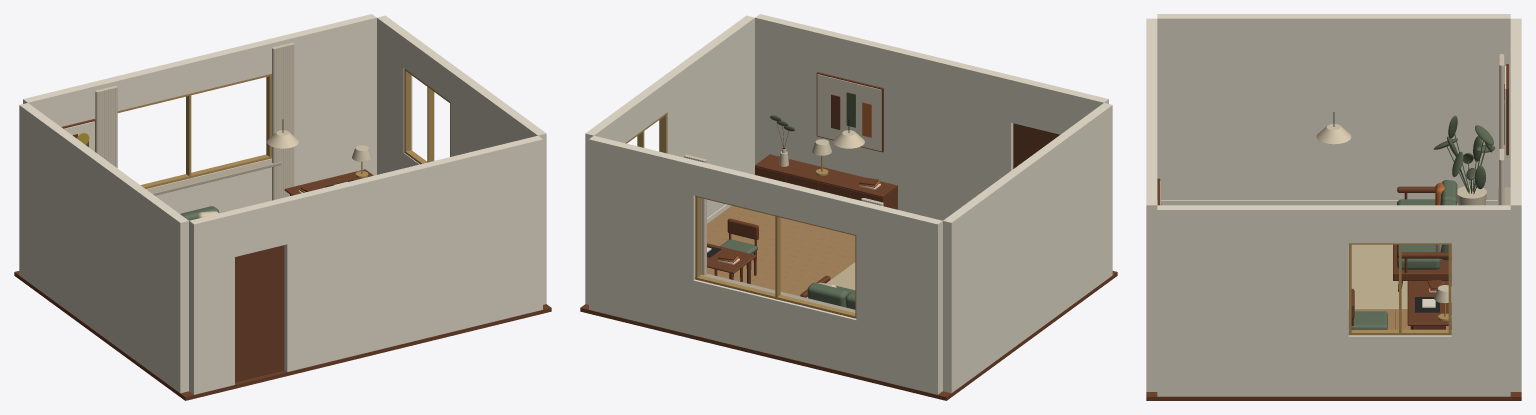
The picture shows the model from 3 angles, left to right: view 1: azimuth 30°, elevation 25°; view 2: azimuth 150°, elevation 25°; view 3: azimuth 270°, elevation 25°; orthographic projection. The views are drawn at different scales.
Parts seen in each view (by area): view 1: south plaster wall.002, west plaster wall, north plaster wall.003, south plaster wall, Flush timber door, north plaster wall.002, east plaster wall, east plaster wall.003, north plaster wall.001, Continuous subfloor, south plaster wall.001, north plaster wall (+8 smaller); view 2: south plaster wall.002, west plaster wall, north plaster wall.003, north plaster wall, east plaster wall, north plaster wall.001, north plaster wall.002, Sideboard art linen, Continuous subfloor, south plaster wall.001, east plaster wall.002, Top panel 20mm (+18 smaller); view 3: west plaster wall, east plaster wall, east plaster wall.003, east plaster wall.001, east plaster wall.002, south plaster wall.002, Bound wool area rug, north plaster wall.003, Continuous subfloor, Painted baseboard.003, Timber top.001, north plaster wall.002 (+12 smaller).
Boxes of the visible parts, x1,y1,x2,y2 form: south plaster wall.002: (282,135,542,371); west plaster wall: (19,103,188,393); north plaster wall.003: (267,14,376,186); south plaster wall: (189,211,234,394); Flush timber door: (235,245,284,382); north plaster wall.002: (104,39,272,110); east plaster wall: (450,69,546,304); east plaster wall.003: (377,15,412,174); north plaster wall.001: (146,158,271,213); Continuous subfloor: (14,271,551,400); south plaster wall.001: (230,198,287,256); north plaster wall: (23,79,109,126); south plaster wall.002: (755,14,1015,220); west plaster wall: (943,103,1112,393); north plaster wall.003: (589,135,698,335); north plaster wall: (856,201,942,394); east plaster wall: (659,15,754,217); north plaster wall.001: (693,279,856,374); north plaster wall.002: (693,161,860,234); Sideboard art linen: (817,74,881,151); Continuous subfloor: (580,271,1117,400); south plaster wall.001: (1011,76,1067,134); east plaster wall.002: (612,79,667,142); Top panel 20mm: (755,154,897,197); west plaster wall: (1157,14,1510,199); east plaster wall: (1157,205,1348,396); east plaster wall.003: (1451,205,1510,396); east plaster wall.001: (1348,335,1451,396); east plaster wall.002: (1348,205,1451,243); south plaster wall.002: (1146,68,1157,391); Bound wool area rug: (1348,244,1407,309); north plaster wall.003: (1510,149,1521,391); Continuous subfloor: (1146,310,1521,400); Painted baseboard.003: (1161,200,1497,205); Timber top.001: (1407,281,1451,325); north plaster wall.002: (1510,62,1521,149).
Size of the model in its own units: 6.3 by 2.87 by 5.1.
